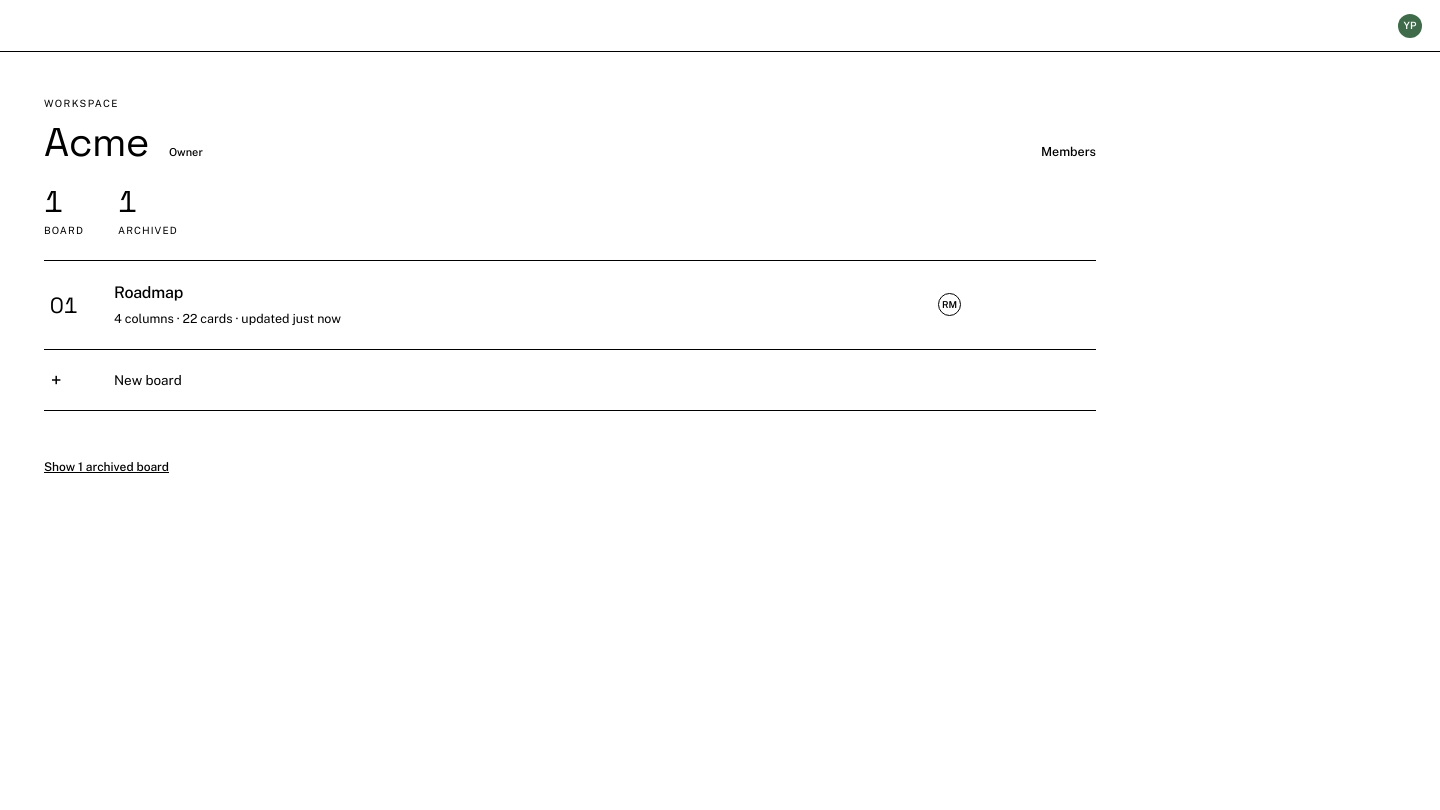
Test: WorkspaceHomeView › keeps archived boards out of the way but reachable
Check: the link "Roadmap" is shown, box [114,283,183,302]
Check: the text "Old plans" is not shown
Click the button "Show 1 archived board": (106, 467) [44,459,169,475]
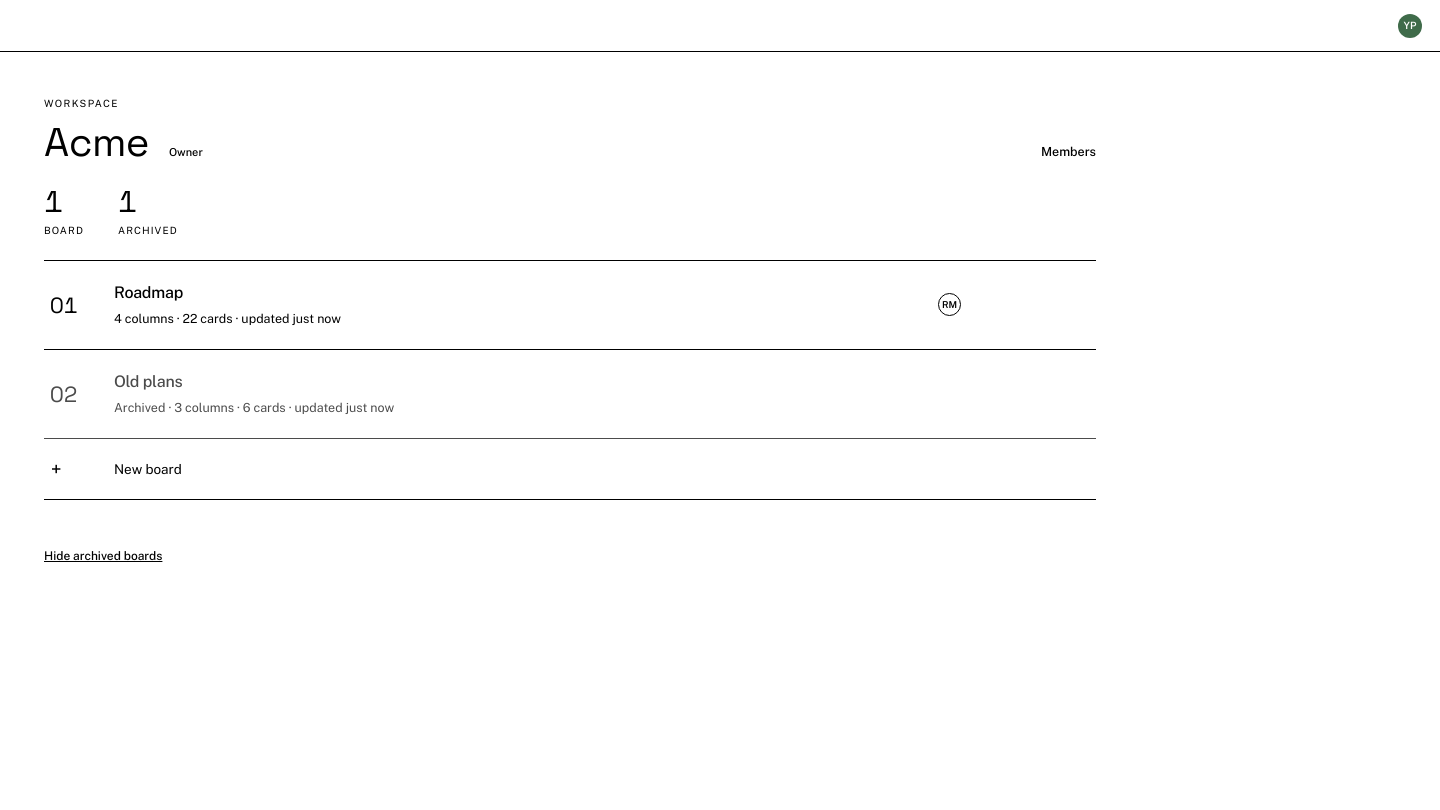
Check: the link "Old plans" is shown, box [114,372,182,391]
